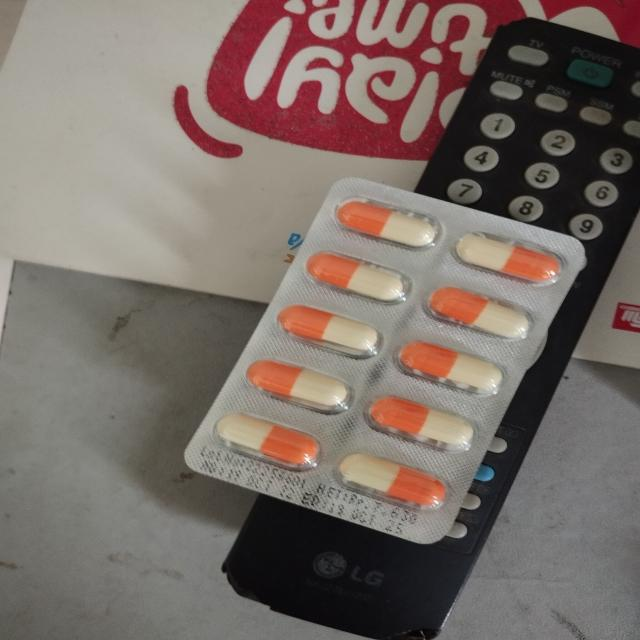B3: (180, 177, 586, 546)
